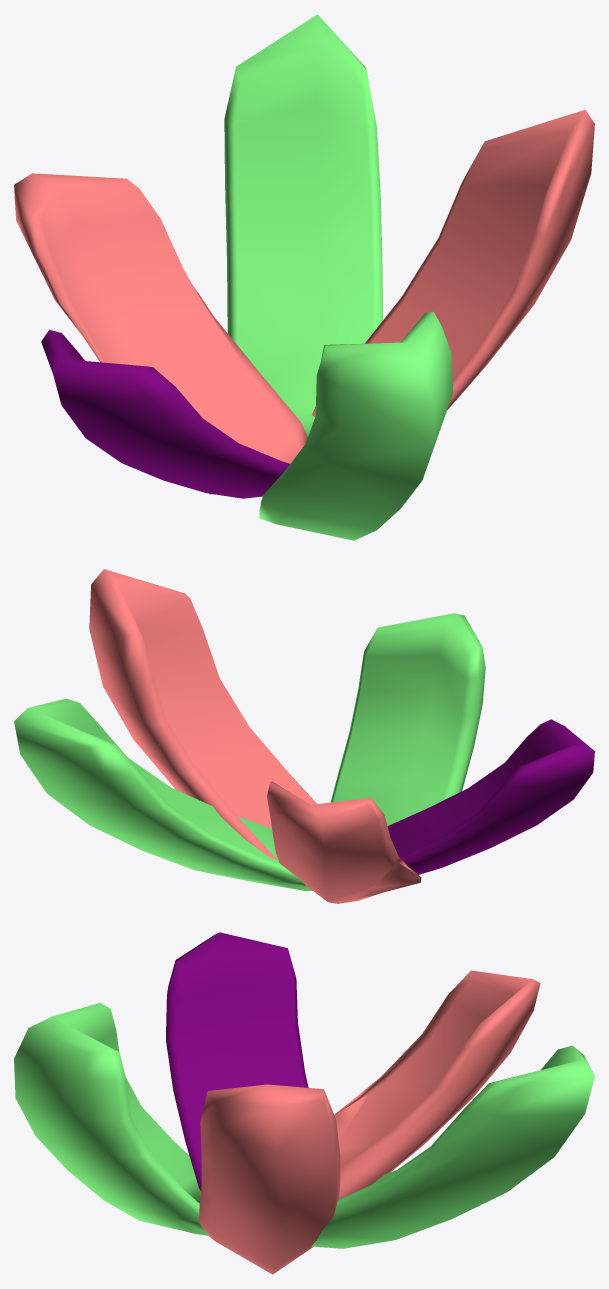
Rendered from Cactus08.1.fbx.
3 renders of one model, top to bottom at view 1: azimuth 30°, elevation 25°; view 2: azimuth 150°, elevation 25°; view 3: azimuth 270°, elevation 25°, orthographic. The views are drawn at different scales.
Visible parts, largest first — view 1: Low_Cactus08.1; view 2: Low_Cactus08.1; view 3: Low_Cactus08.1.
Boxes of the visible parts, left/top/right/bottom form: Low_Cactus08.1: left=14, top=14, right=594, bottom=540; Low_Cactus08.1: left=14, top=569, right=594, bottom=903; Low_Cactus08.1: left=14, top=932, right=594, bottom=1274.
Size of the model in its own units: 474 by 248 by 471.
